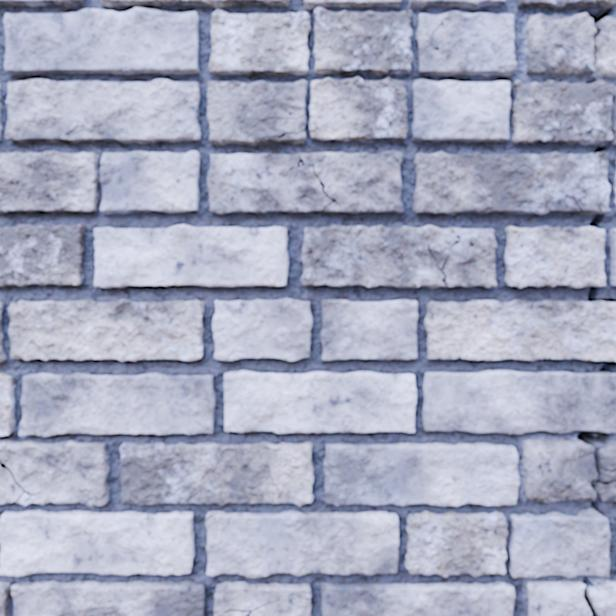brick: (4, 8, 198, 74), (206, 511, 398, 576), (0, 511, 193, 575), (19, 373, 215, 435), (413, 152, 609, 214), (5, 80, 200, 142), (208, 152, 403, 214), (324, 443, 518, 505), (423, 371, 615, 433), (95, 225, 287, 287), (302, 226, 496, 287), (120, 443, 313, 504), (9, 300, 203, 360), (225, 371, 415, 432), (425, 300, 615, 360), (305, 0, 412, 74), (0, 440, 110, 505), (0, 581, 204, 615), (512, 81, 615, 144), (405, 512, 506, 576), (208, 80, 306, 145), (510, 513, 609, 577), (210, 10, 309, 74), (416, 12, 515, 75), (322, 583, 514, 615), (310, 77, 406, 141), (100, 152, 199, 213), (0, 152, 98, 213), (213, 299, 311, 360), (505, 227, 604, 287), (412, 80, 509, 141), (321, 300, 416, 359), (0, 225, 84, 285), (215, 582, 310, 615), (101, 0, 289, 7), (518, 0, 615, 9), (0, 373, 14, 435), (409, 0, 504, 8), (0, 468, 21, 503), (0, 0, 83, 6), (0, 303, 5, 361), (611, 229, 615, 284), (19, 494, 27, 503)
broken_brick: (522, 438, 595, 503), (525, 12, 594, 76), (526, 580, 590, 615), (598, 16, 615, 71), (590, 580, 615, 615), (602, 446, 615, 468), (600, 483, 615, 502), (599, 74, 615, 77)
crack: (576, 431, 615, 516), (287, 155, 341, 211), (585, 6, 615, 84), (0, 459, 41, 505), (425, 234, 460, 287), (580, 574, 613, 615), (223, 598, 281, 615), (419, 20, 444, 55), (251, 113, 305, 128), (589, 191, 607, 229), (260, 129, 305, 143), (587, 285, 615, 303), (268, 466, 280, 503), (597, 360, 615, 374), (53, 190, 65, 211), (593, 142, 608, 153), (205, 514, 211, 521), (601, 177, 606, 185), (532, 605, 535, 615), (325, 461, 330, 467)
